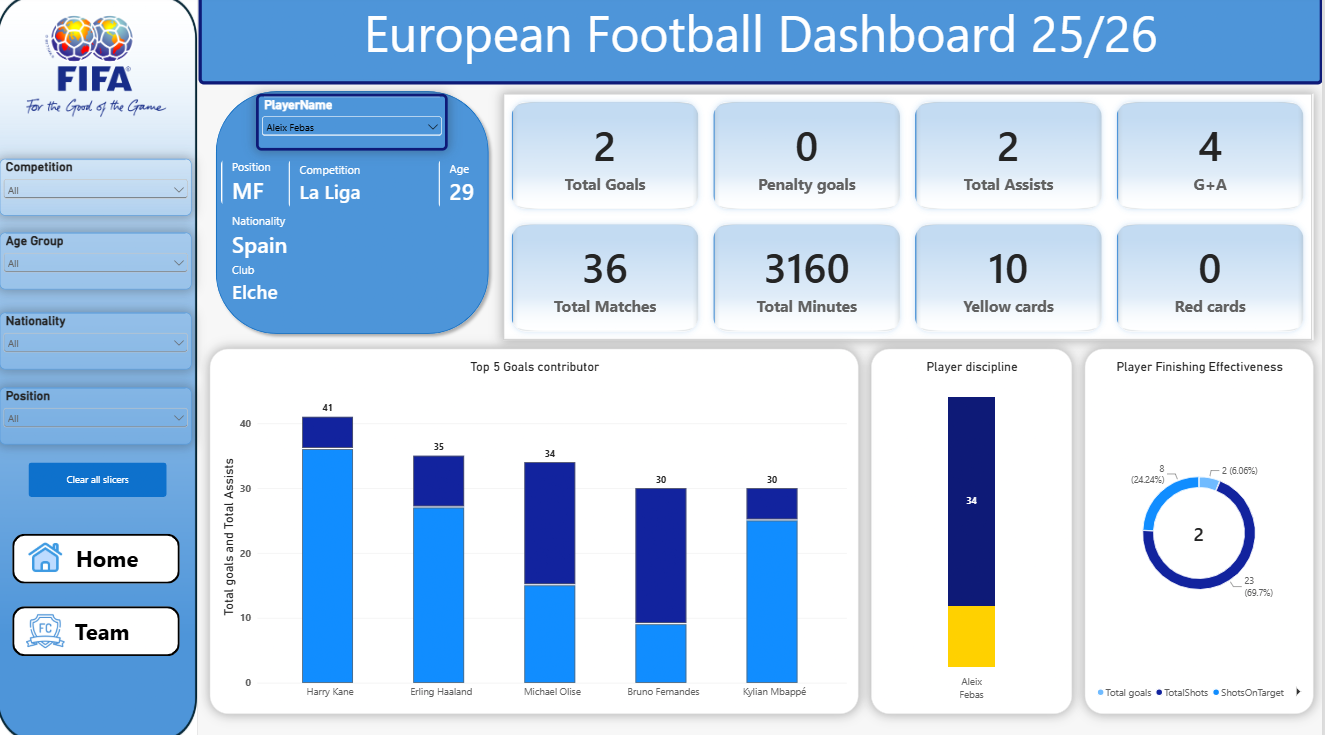

This screenshot's page, from the dashboard's own definition file:
{"tool":"powerbi","page":{"name":"Players","canvas":[1920,1080],"ordinal":2},"visuals":[{"type":"cardVisual","fields":{"Data":["_measures.Total goals","_measures.Penalty goals count","_measures.Total Assists","_measures.Total goalscontribution","_measures.Tot_matches","_measures.Total minutes","_measures.Yellow cards count","_measures.Red cards count"]},"box":[734.7,143,1172.7,356.5],"z":0},{"type":"shape","box":[23.5,780,242.5,72.4],"z":0,"group":"g1"},{"type":"textbox","box":[292.3,0,1628.1,129.7],"z":1000},{"type":"image","box":[43.4,780,56.1,68.8],"z":1000,"group":"g1"},{"type":"image","box":[43.4,886.7,56.1,68.8],"z":1000,"group":"g2"},{"type":"actionButton","box":[0,0,292.3,1080.6],"z":2000},{"type":"shape","box":[99.5,790.9,123.1,48.9],"z":2000,"group":"g1"},{"type":"shape","box":[93.3,896.2,119.4,48.9],"z":2000,"group":"g2"},{"type":"image","box":[43.2,20.6,203.8,164.7],"z":3000},{"type":"columnChart","title":"Player discipline ","fields":{"Category":["dim_players.PlayerName"],"Y":["Sum(fact_stats.YellowCards)","Sum(fact_stats.RedCards)","Sum(fact_stats.FoulsCommitted)"]},"box":[1266.8,512.1,291.4,528.4],"z":7000},{"type":"slicer","fields":{"Values":["dim_competitions.Competition"]},"box":[6.2,236.7,277.9,82.3],"z":10000},{"type":"slicer","fields":{"Values":["dim_players.Age Group","dim_players.Age"]},"box":[6.2,343.7,277.9,82.3],"z":11000},{"type":"slicer","fields":{"Values":["dim_players.Nationality"]},"box":[6.2,459,277.9,82.3],"z":12000},{"type":"slicer","fields":{"Values":["dim_players.Position"]},"box":[6.2,568.1,277.9,82.3],"z":13000},{"type":"actionButton","box":[47.1,676.8,200,50],"z":17000},{"type":"donutChart","title":"Player Finishing Effectiveness","fields":{"Y":["_measures.Total goals","_measures.TotalShots","_measures.ShotsOnTarget","Sum(fact_stats.PenaltyGoals)"]},"box":[1576.2,512.1,331.2,528.4],"z":18000},{"type":"shape","box":[309.5,130.3,412.6,369.2],"z":18001},{"type":"slicer","fields":{"Values":["dim_players.PlayerName"]},"box":[376.4,143,277.9,82.3],"z":18002},{"type":"cardVisual","fields":{"Data":["Min(dim_players.Position)"]},"box":[325.7,237.1,90.5,68.8],"z":18003},{"type":"cardVisual","fields":{"Data":["Median(dim_players.Age)"]},"box":[640.6,237.1,128.5,72.4],"z":18004},{"type":"cardVisual","fields":{"Data":["Min(dim_players.Nationality)"]},"box":[325.7,313.1,363.7,72.4],"z":18005},{"type":"cardVisual","fields":{"Data":["Min(dim_competitions.Competition)"]},"box":[423.5,237.1,242.5,72.4],"z":18006},{"type":"columnChart","title":"Top 5 Goals contributor","fields":{"Category":["dim_players.PlayerName"],"Y":["_measures.Total goals","_measures.Total Assists"]},"box":[309.5,512.1,939.2,528.4],"z":18007},{"type":"cardVisual","fields":{"Data":["Min(dim_clubs.Club)"]},"box":[325.7,381.8,363.7,72.4],"z":18008},{"type":"group","id":"g1","title":"Group 1","box":[23.5,780,242.5,72.4],"z":18009},{"type":"shape","box":[23.5,884.9,242.5,72.4],"z":18010},{"type":"group","id":"g2","title":"Group 1","box":[43.4,886.7,169.3,68.8],"z":18011}]}

Visuals, with their boxes on the page's 1920x1080 design canvas (x1, y1, x2, y2). These are canvas units, not pixel positions in the 1325x735 screenshot, which may show the page scaled, cropped or inside an application window:
cardVisual - _measures.Total goals x _measures.Penalty goals count: {"left": 735, "top": 143, "right": 1907, "bottom": 500}
shape: {"left": 24, "top": 780, "right": 266, "bottom": 852}
textbox: {"left": 292, "top": 0, "right": 1920, "bottom": 130}
image: {"left": 43, "top": 780, "right": 100, "bottom": 849}
image: {"left": 43, "top": 887, "right": 100, "bottom": 956}
actionButton: {"left": 0, "top": 0, "right": 292, "bottom": 1081}
shape: {"left": 100, "top": 791, "right": 223, "bottom": 840}
shape: {"left": 93, "top": 896, "right": 213, "bottom": 945}
image: {"left": 43, "top": 21, "right": 247, "bottom": 185}
"Player discipline " columnChart: {"left": 1267, "top": 512, "right": 1558, "bottom": 1040}
slicer - dim_competitions.Competition: {"left": 6, "top": 237, "right": 284, "bottom": 319}
slicer - dim_players.Age Group x dim_players.Age: {"left": 6, "top": 344, "right": 284, "bottom": 426}
slicer - dim_players.Nationality: {"left": 6, "top": 459, "right": 284, "bottom": 541}
slicer - dim_players.Position: {"left": 6, "top": 568, "right": 284, "bottom": 650}
actionButton: {"left": 47, "top": 677, "right": 247, "bottom": 727}
"Player Finishing Effectiveness" donutChart: {"left": 1576, "top": 512, "right": 1907, "bottom": 1040}
shape: {"left": 310, "top": 130, "right": 722, "bottom": 500}
slicer - dim_players.PlayerName: {"left": 376, "top": 143, "right": 654, "bottom": 225}
cardVisual - Min(dim_players.Position): {"left": 326, "top": 237, "right": 416, "bottom": 306}
cardVisual - Median(dim_players.Age): {"left": 641, "top": 237, "right": 769, "bottom": 310}
cardVisual - Min(dim_players.Nationality): {"left": 326, "top": 313, "right": 689, "bottom": 386}
cardVisual - Min(dim_competitions.Competition): {"left": 424, "top": 237, "right": 666, "bottom": 310}
"Top 5 Goals contributor" columnChart: {"left": 310, "top": 512, "right": 1249, "bottom": 1040}
cardVisual - Min(dim_clubs.Club): {"left": 326, "top": 382, "right": 689, "bottom": 454}
"Group 1" group: {"left": 24, "top": 780, "right": 266, "bottom": 852}
shape: {"left": 24, "top": 885, "right": 266, "bottom": 957}
"Group 1" group: {"left": 43, "top": 887, "right": 213, "bottom": 956}
